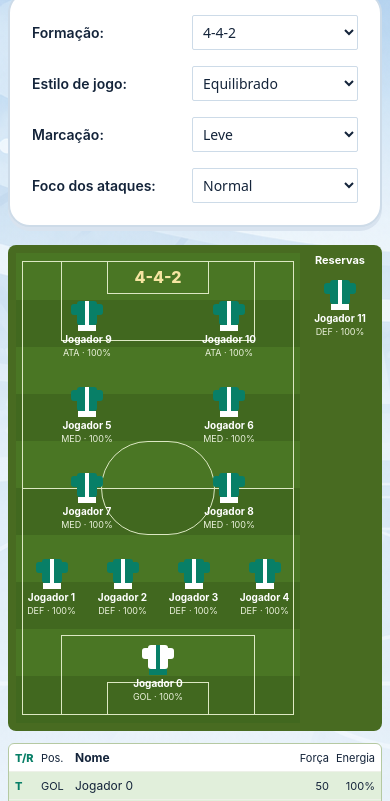
two starters exchange actual field positions and keep them after reloading the saved lineup
Expected: the element named "Campo: formação 4-4-2" is shown, x1=16 y1=253 x2=300 y2=723
Step 1. Click the button with aria-label "Substituir Jogador 1" → (52, 588), box x1=18 y1=556 x2=84 y2=619
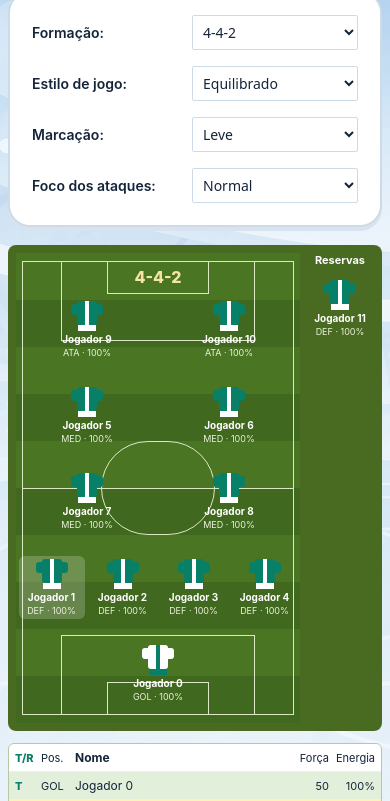
Step 2. Click the button with aria-label "Substituir Jogador 9" → (87, 330), box x1=54 y1=298 x2=120 y2=361
(page scrolled)
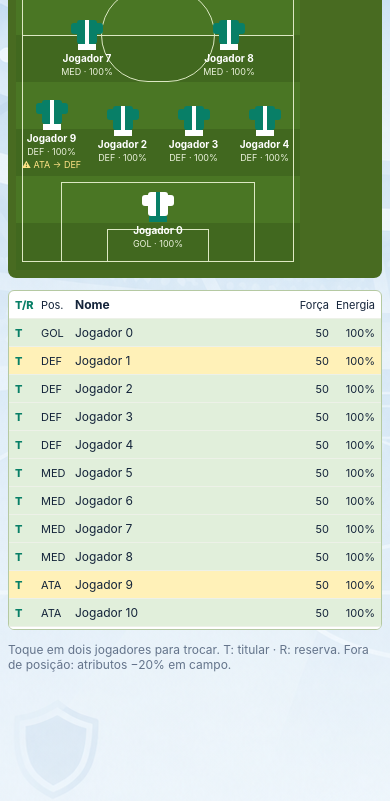
Expected: the text named "Jogador 9: fora de posição, natural ATA, escalado em DEF" is shown, x1=22 y1=158 x2=81 y2=170
